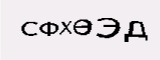А: (43, 19, 62, 39)
В: (64, 20, 73, 41)
Р: (85, 22, 98, 44)
У: (94, 24, 112, 46), (73, 19, 86, 39)
